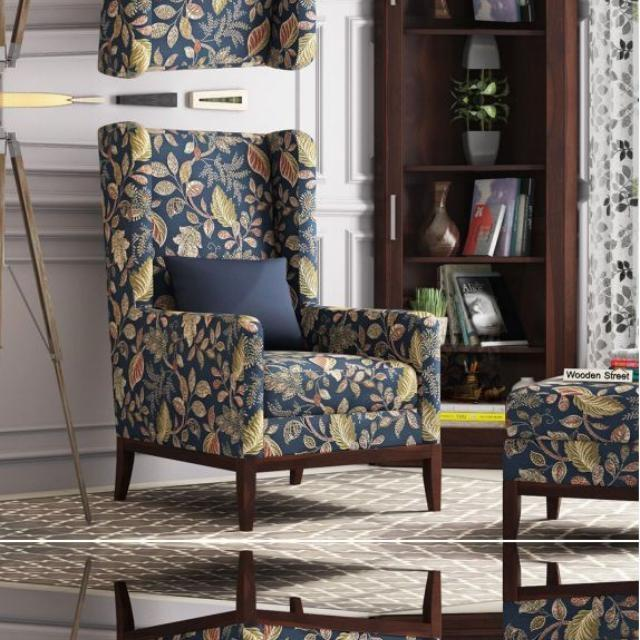obstacle: (92, 116, 446, 512), (92, 0, 445, 82), (92, 569, 445, 640)
